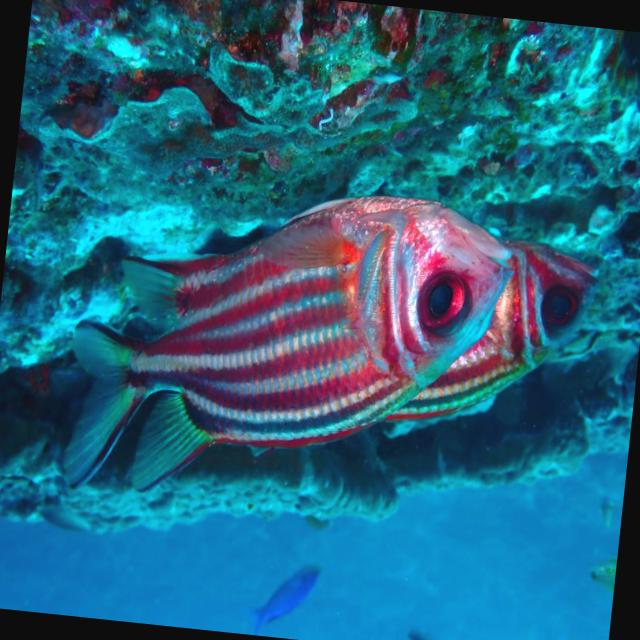Asker Baligi: (52, 161, 604, 544)
